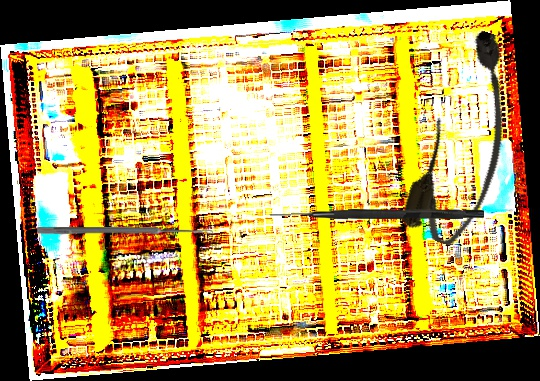Cannula: (396, 25, 538, 252)
Hook Surgical: (269, 207, 485, 222)
Surgical Spoon: (37, 227, 214, 235)
